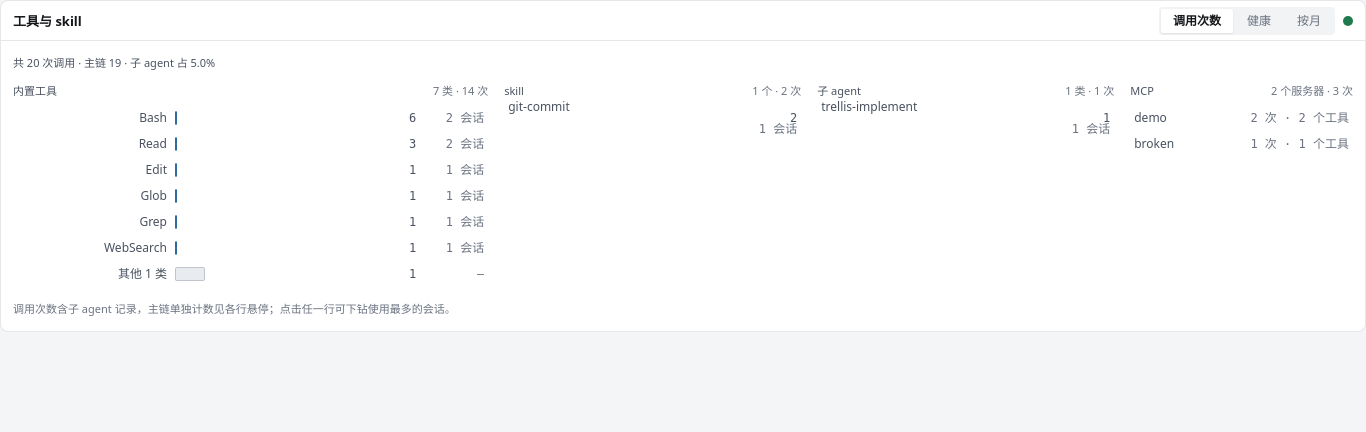
Test case: ToolCensusPanel › 折尾行收长尾：会话列不给读数（宁缺毋假），仍可点下钻
Expected: the text "—" is shown, [477,267,484,281]
Click the button "其他 1 类 1 —".
click(142, 274)  # box [13,261,488,287]
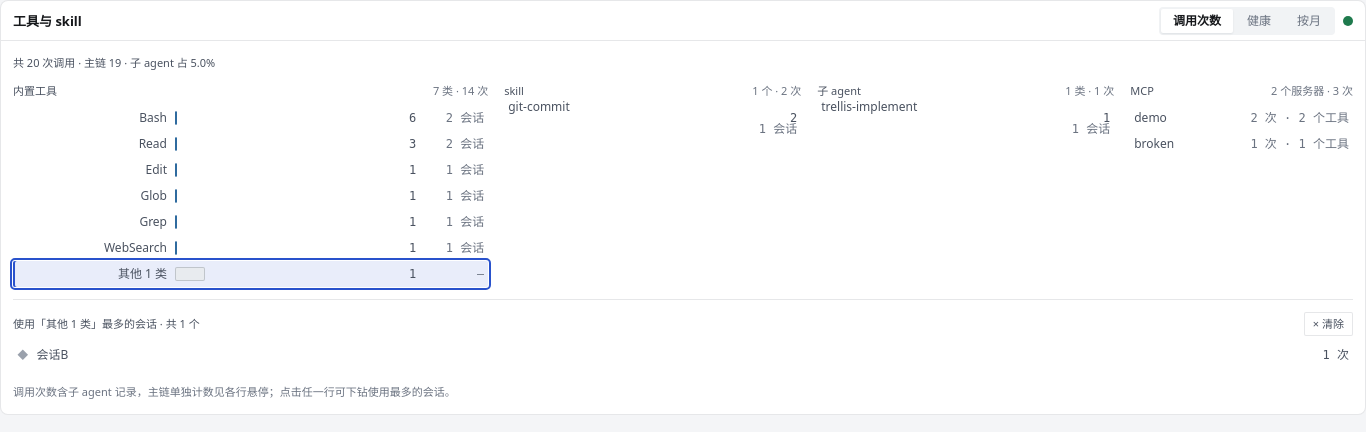
Now the text "使用「其他 1 类」最多的会话 · 共 1 个" is shown, box [13,314,200,334]
Now the text "会话B" is shown, box [37,346,68,363]
